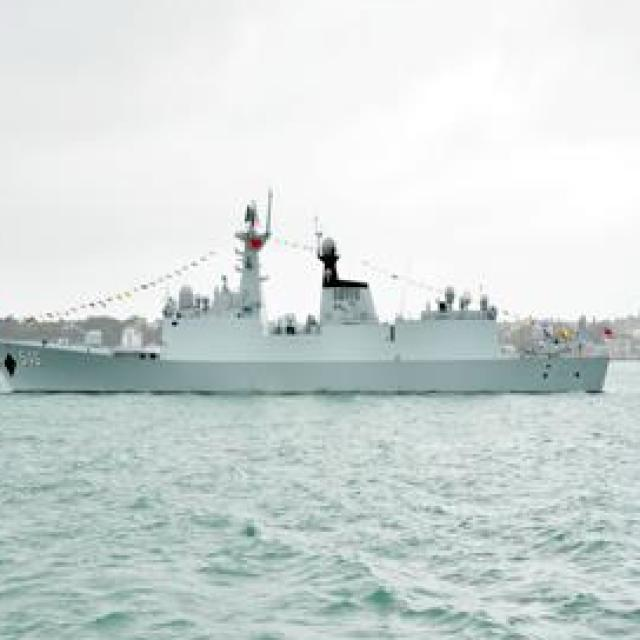navalvessels: (0, 202, 635, 395)
